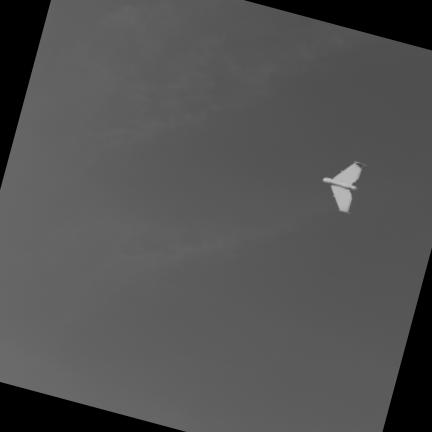Shahed: (323, 162, 363, 212)
